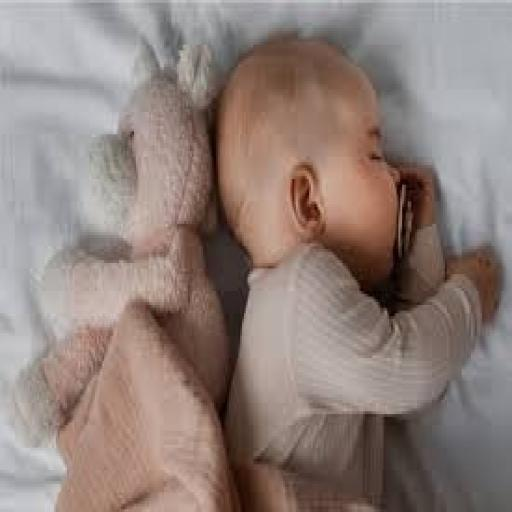baby: (218, 42, 498, 511)
